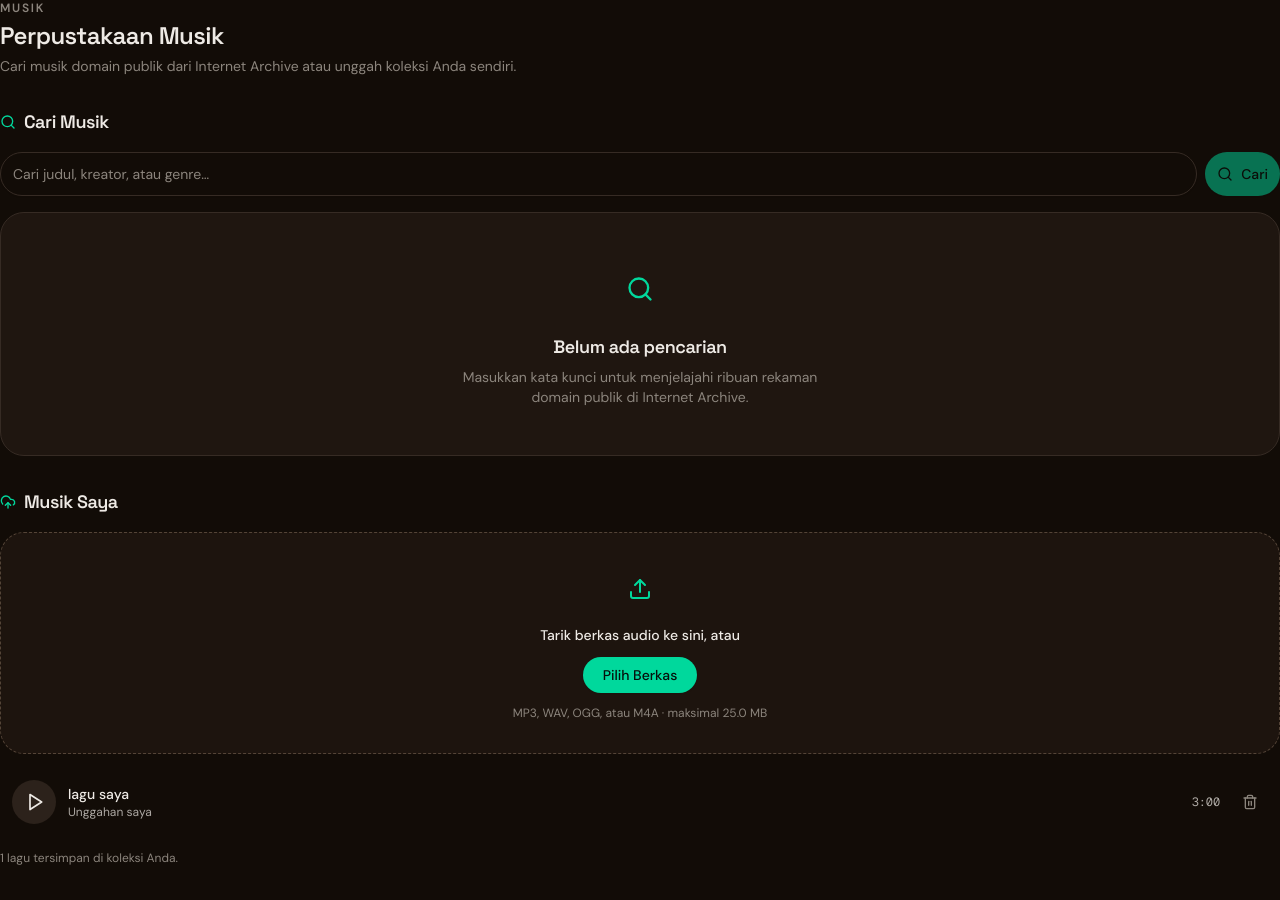
Test: MusikPage uploads › keeps the track when the delete confirmation is cancelled
Click the button named "Hapus lagu saya" at [1250, 802], box [1232,784,1268,820]
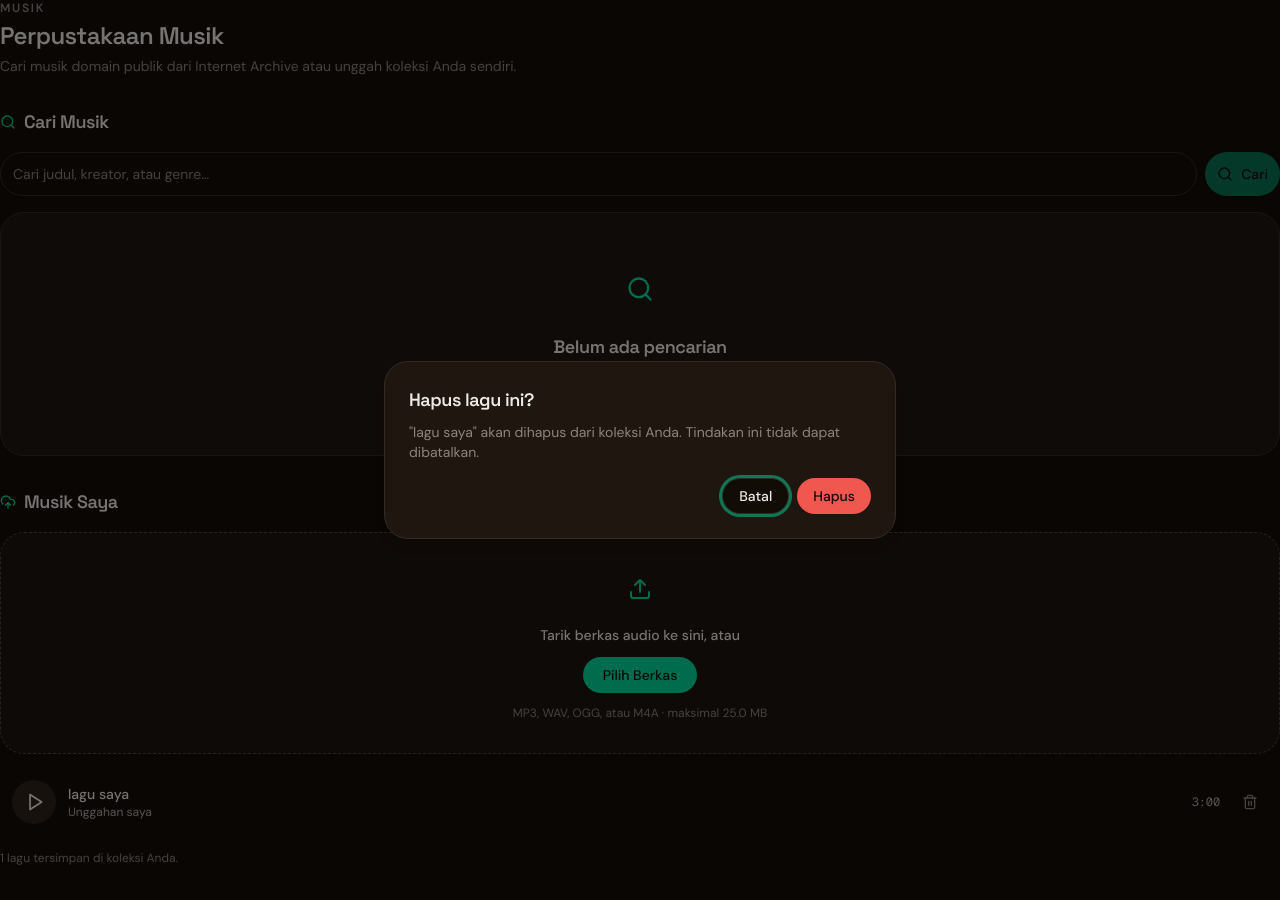
Click the button with test id "musik.delete.cancel_button" at [756, 496], box [722,478,789,514]
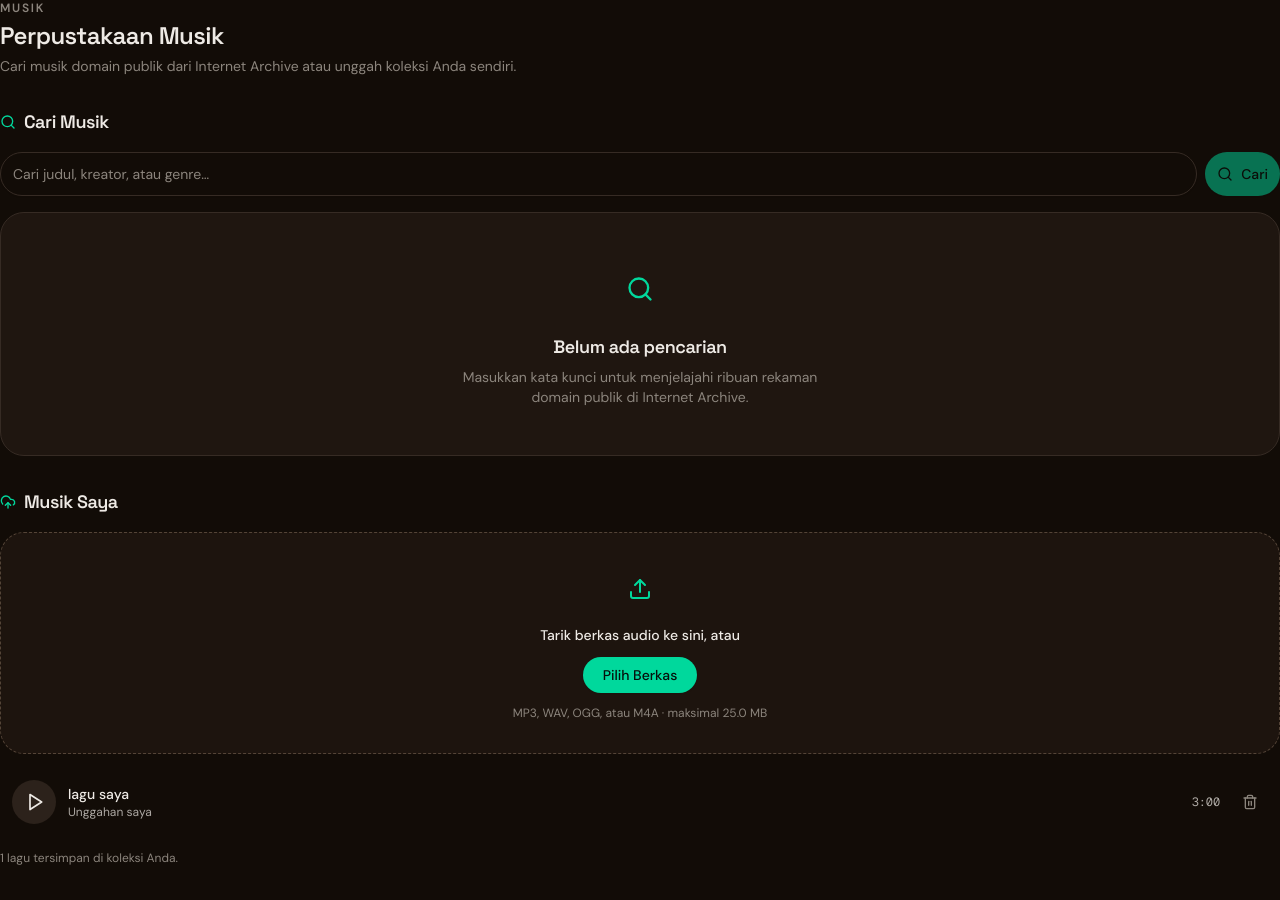
Expected: the text "lagu saya" is shown, [68,785,129,803]
Expected: the heading "Hapus lagu ini?" is gone
